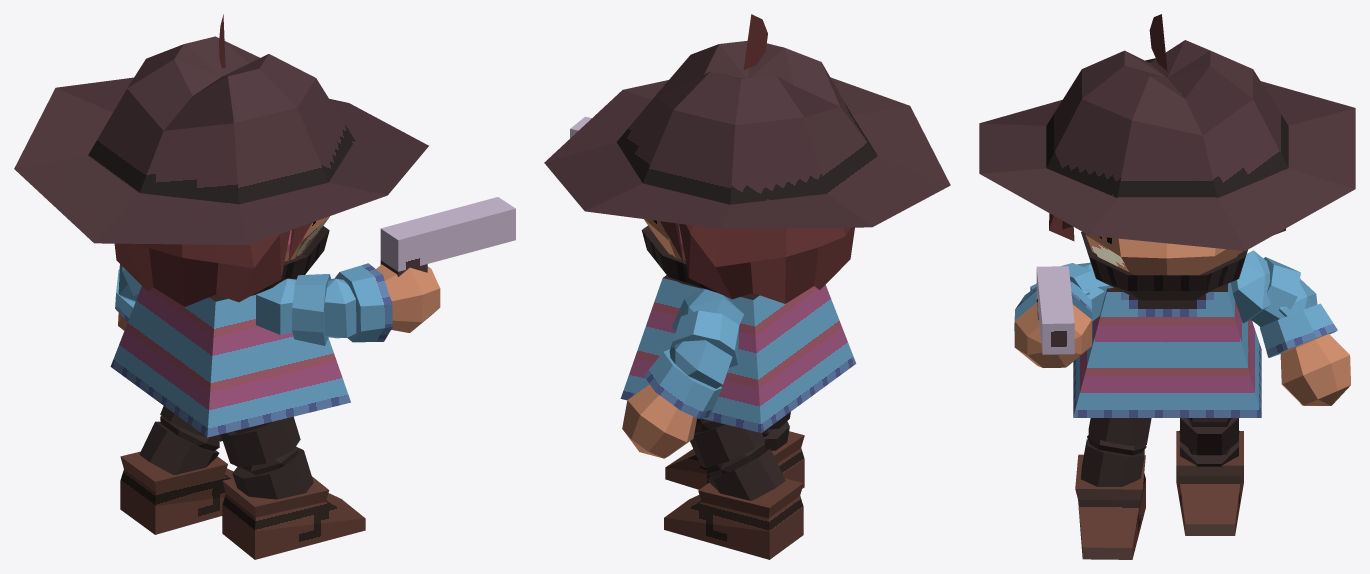
Rendered from vbn0.gltf.
3 renders of one model, left to right at view 1: azimuth 30°, elevation 25°; view 2: azimuth 150°, elevation 25°; view 3: azimuth 270°, elevation 25°, orthographic. The views are drawn at different scales.
Visible parts, largest first — view 1: pyramid; view 2: pyramid; view 3: pyramid.
Boxes of the visible parts, bbox=[...] form: pyramid: bbox=[14, 14, 515, 559]; pyramid: bbox=[544, 14, 950, 559]; pyramid: bbox=[979, 14, 1355, 559].
Bounding box in the file's own units: 1.65 × 2.02 × 1.39.
Materials: 3 (3 with a texture image).
